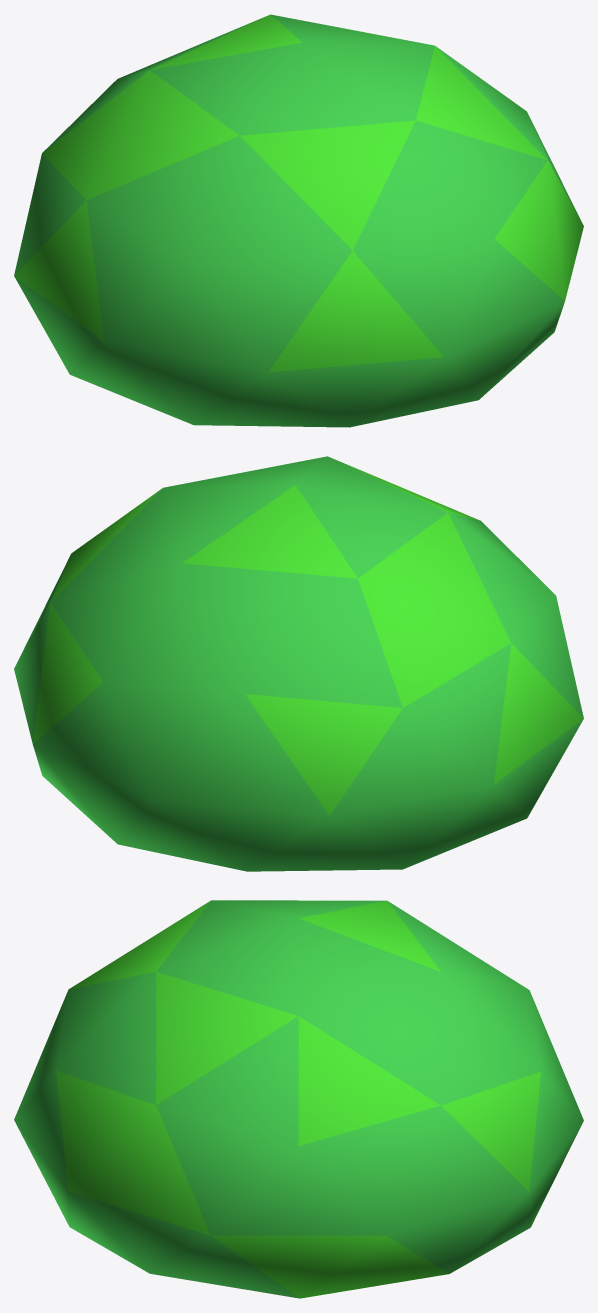
File: bush.fbx
3 renders of one model, top to bottom at view 1: azimuth 30°, elevation 25°; view 2: azimuth 150°, elevation 25°; view 3: azimuth 270°, elevation 25°, orthographic. The views are drawn at different scales.
Parts seen in each view (by area): view 1: Icosphere; view 2: Icosphere; view 3: Icosphere.
Part boxes in pixels (bbox=[...]): Icosphere: bbox=[14, 14, 583, 427]; Icosphere: bbox=[14, 456, 583, 871]; Icosphere: bbox=[14, 900, 583, 1298].
Size of the model in its own units: 355 by 229 by 373.
